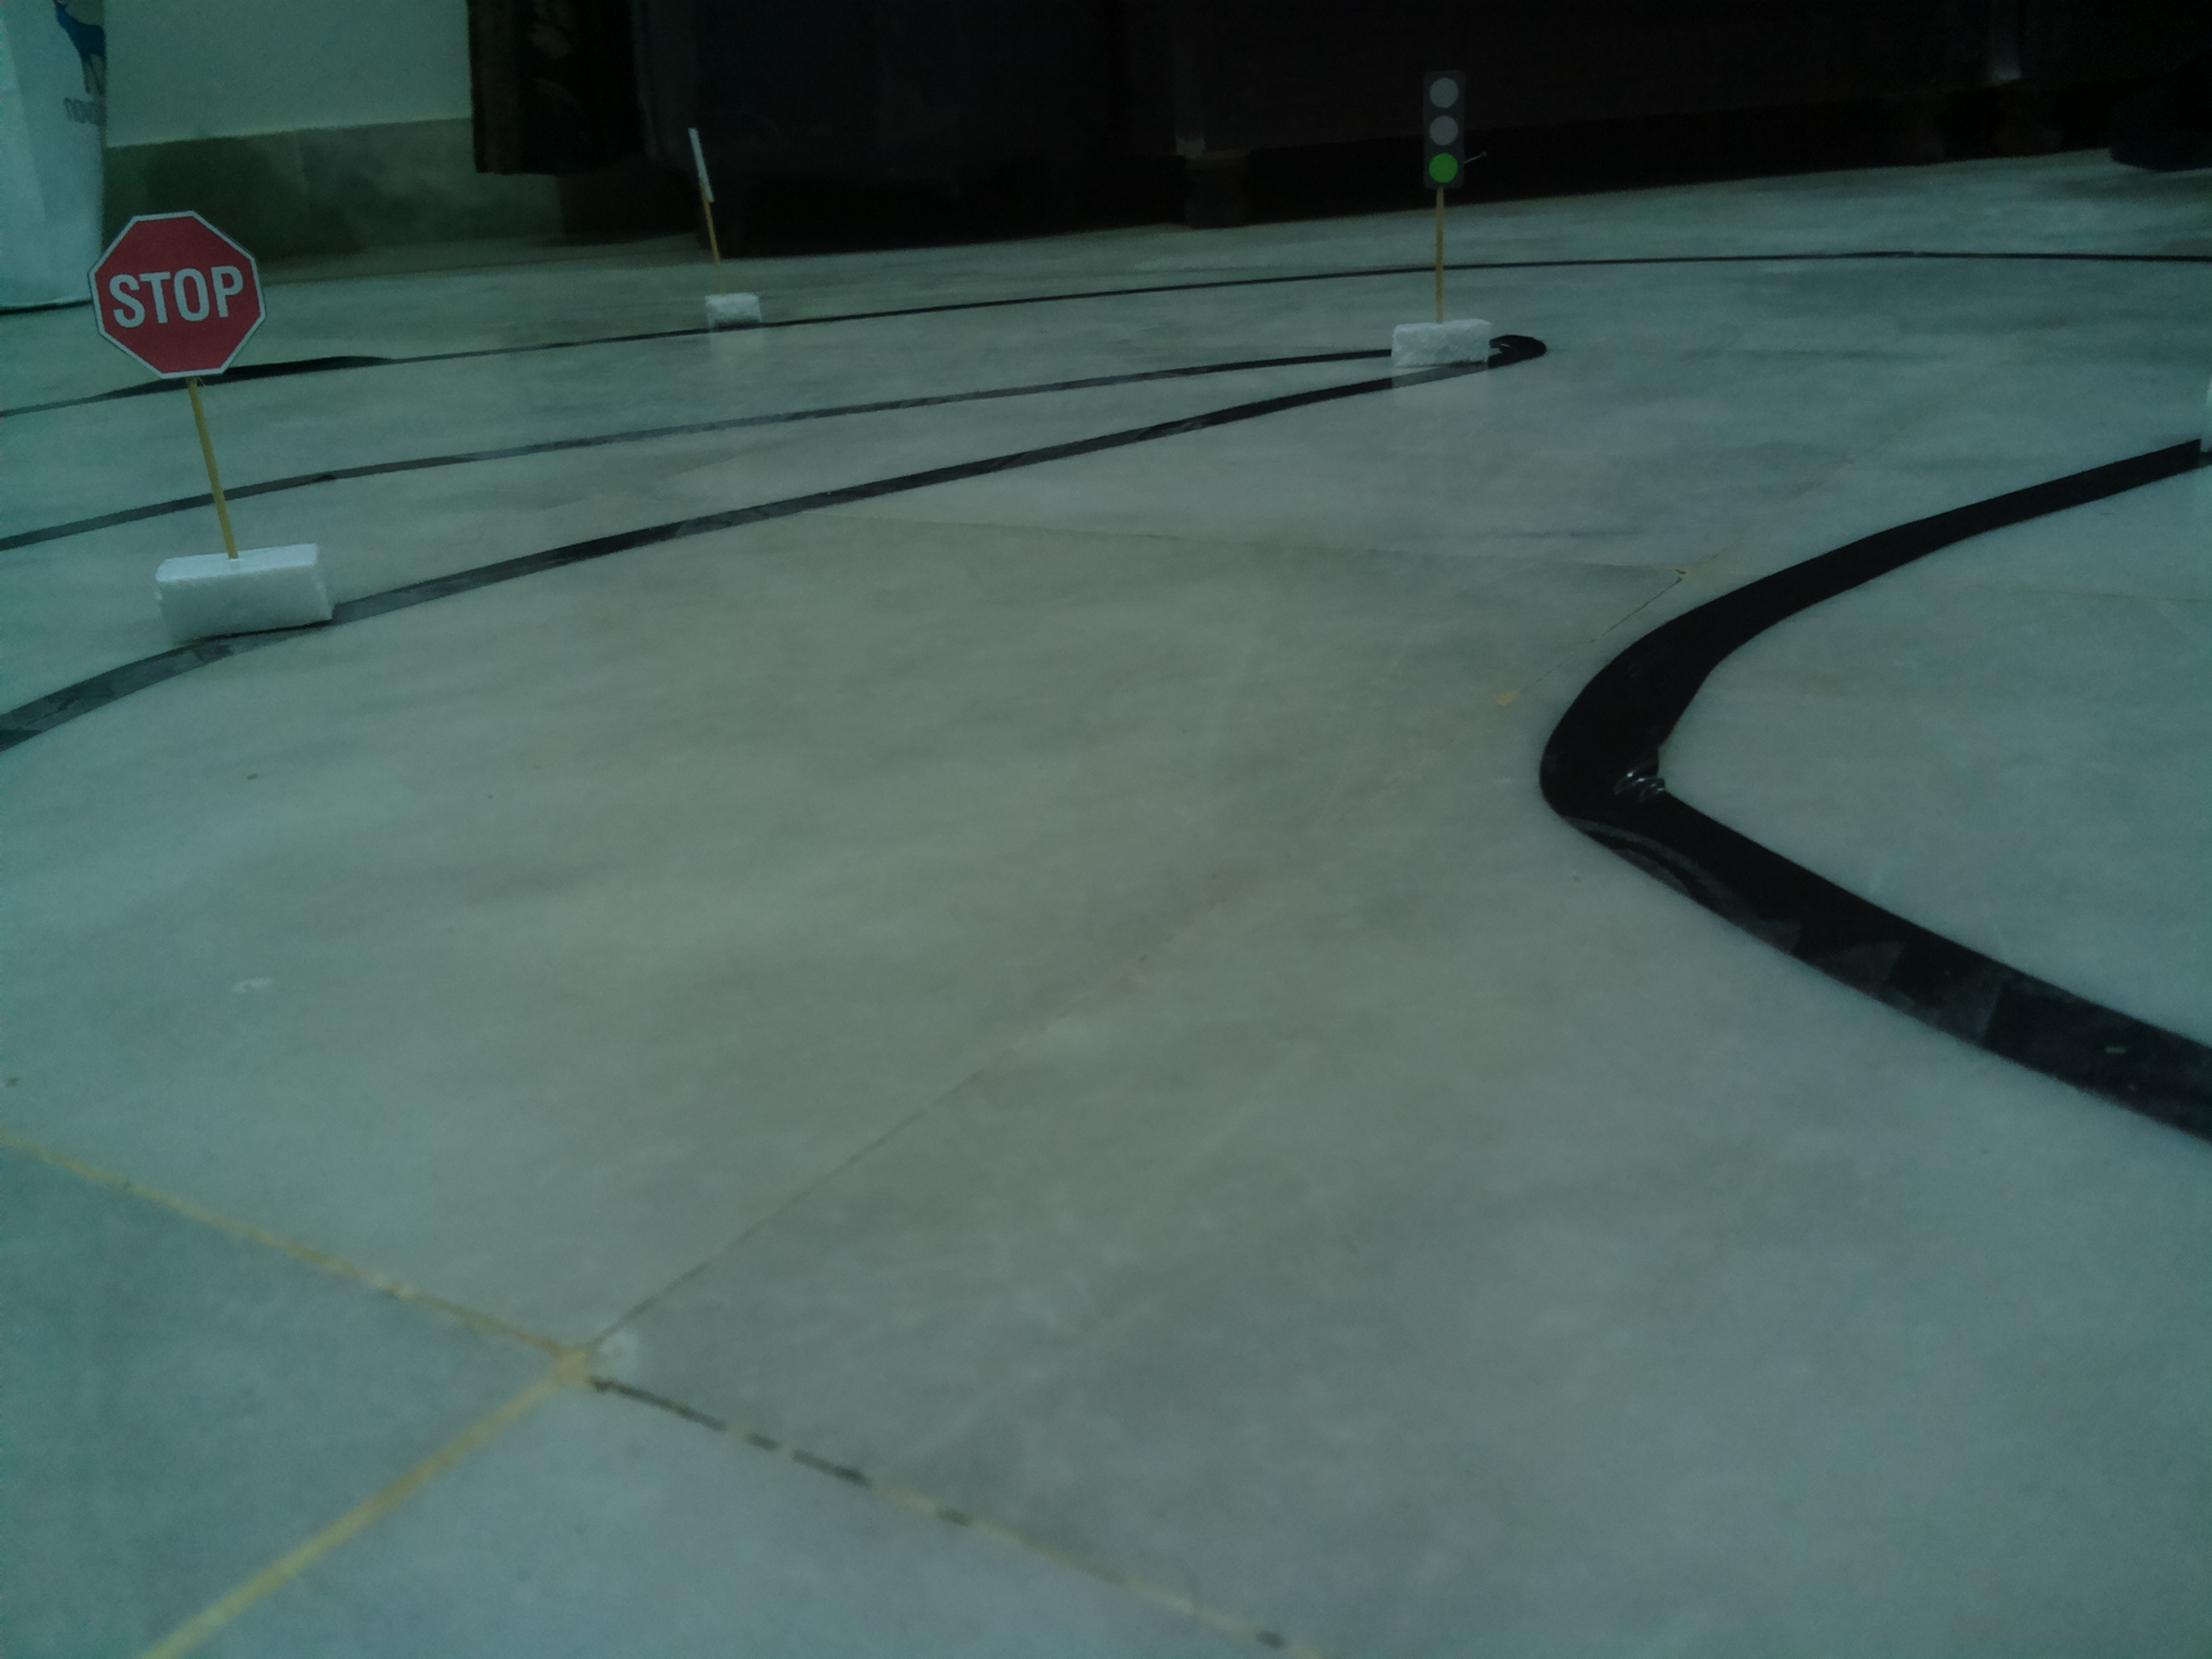Stop sign: (84, 204, 268, 387)
